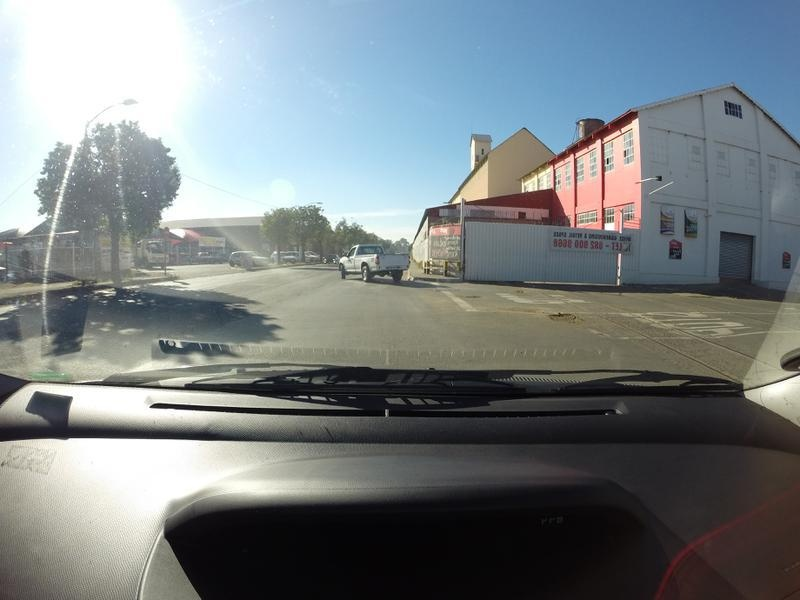pothole: (542, 310, 578, 321), (501, 305, 532, 312), (511, 286, 525, 296), (454, 293, 480, 298)
